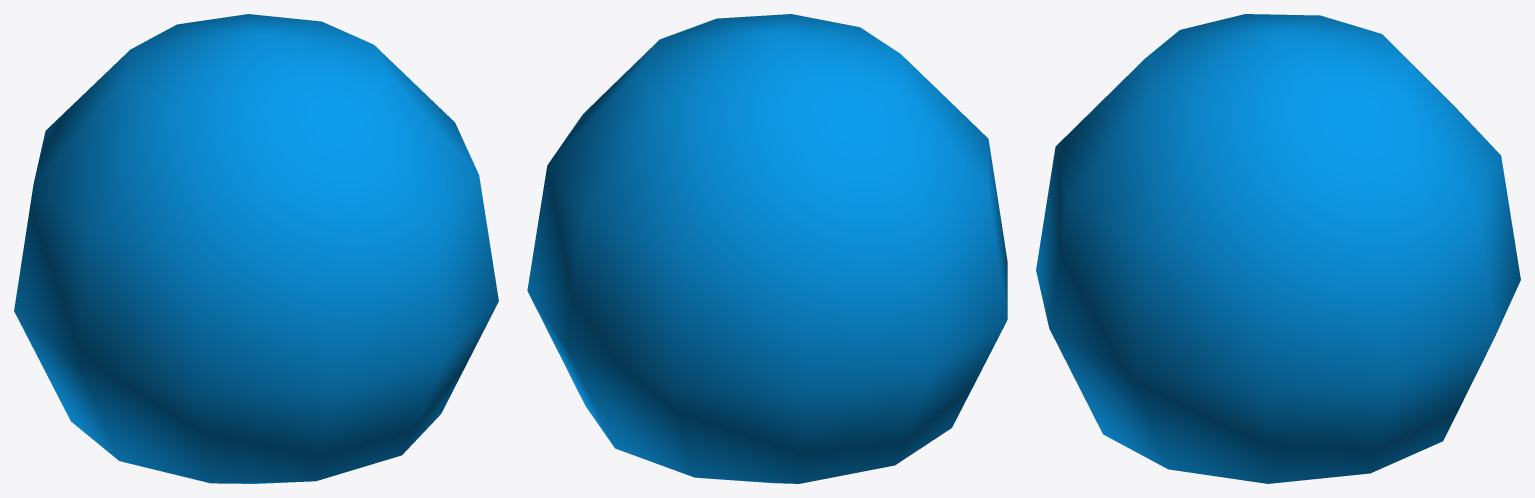
The model's file is sc_bullet_extraBody.FBX.
The picture shows the model from 3 angles, left to right: view 1: azimuth 30°, elevation 25°; view 2: azimuth 150°, elevation 25°; view 3: azimuth 270°, elevation 25°; orthographic projection.
Visible parts, largest first — view 1: sc_bullet_extraBody; view 2: sc_bullet_extraBody; view 3: sc_bullet_extraBody.
Boxes of the visible parts, bbox=[...] form: sc_bullet_extraBody: bbox=[14, 14, 498, 483]; sc_bullet_extraBody: bbox=[527, 14, 1007, 483]; sc_bullet_extraBody: bbox=[1036, 14, 1520, 483].
Bounding box in the file's own units: 0.4822 × 0.4945 × 0.4839.
